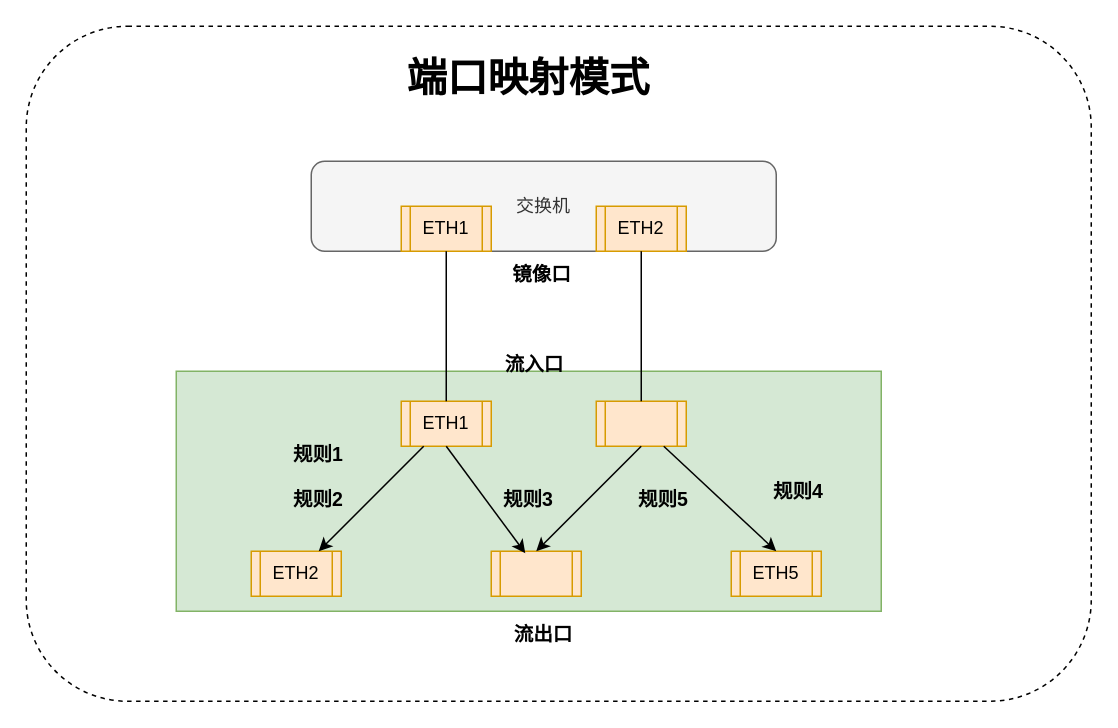
Image size: 1118x728. Some labels were removed from this diagram. Here are the shapes that lost their labels. From the top down, the centre of each, then its label:
(x=640, y=423): ETH3
(x=535, y=573): ETH4
